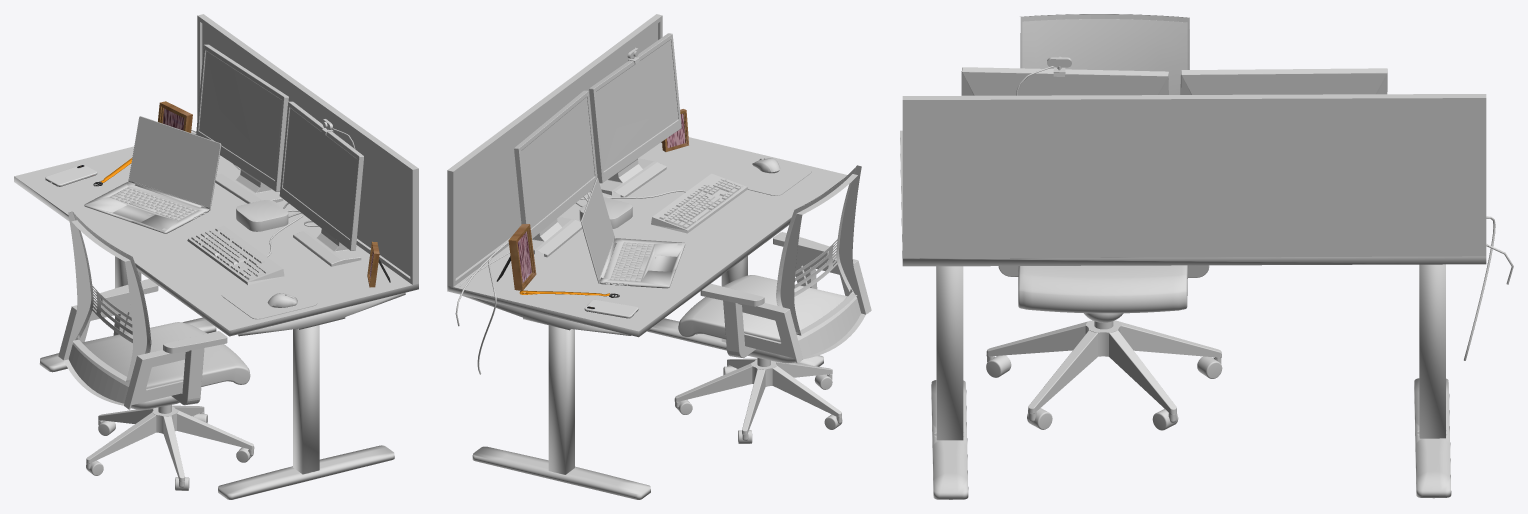
3 renders of one model, left to right at view 1: azimuth 30°, elevation 25°; view 2: azimuth 150°, elevation 25°; view 3: azimuth 270°, elevation 25°, orthographic. The views are drawn at different scales.
Parts seen in each view (by area): view 1: Set7_3, Set7_1, Set7_2; view 2: Set7_3, Set7_1, Set7_2; view 3: Set7_3, Set7_1.
Part boxes in pixels (left/top/right/bottom): Set7_3: left=14, top=14, right=418, bottom=499; Set7_1: left=45, top=44, right=363, bottom=319; Set7_2: left=158, top=101, right=390, bottom=287; Set7_3: left=447, top=14, right=871, bottom=499; Set7_1: left=455, top=33, right=811, bottom=374; Set7_2: left=496, top=109, right=688, bottom=290; Set7_3: left=900, top=14, right=1486, bottom=499; Set7_1: left=961, top=56, right=1513, bottom=360.
Bounding box in the file's own units: 1.08 × 1.25 × 1.62.
20 materials, 3 textured.
